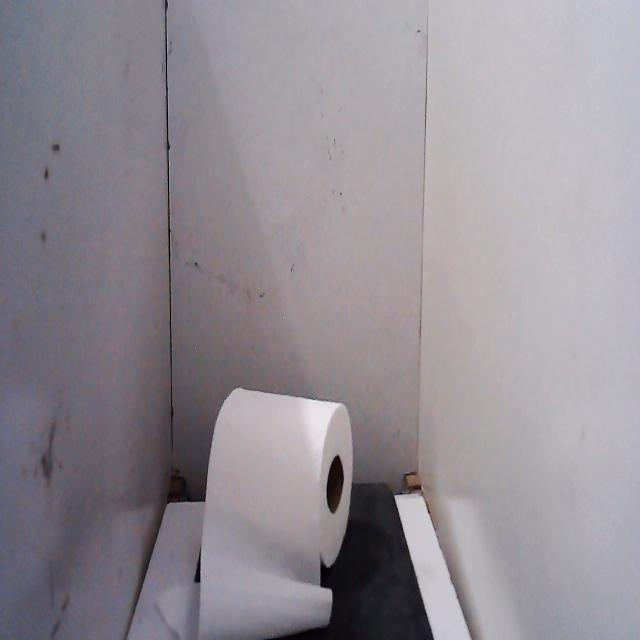papel: (151, 374, 357, 640)
